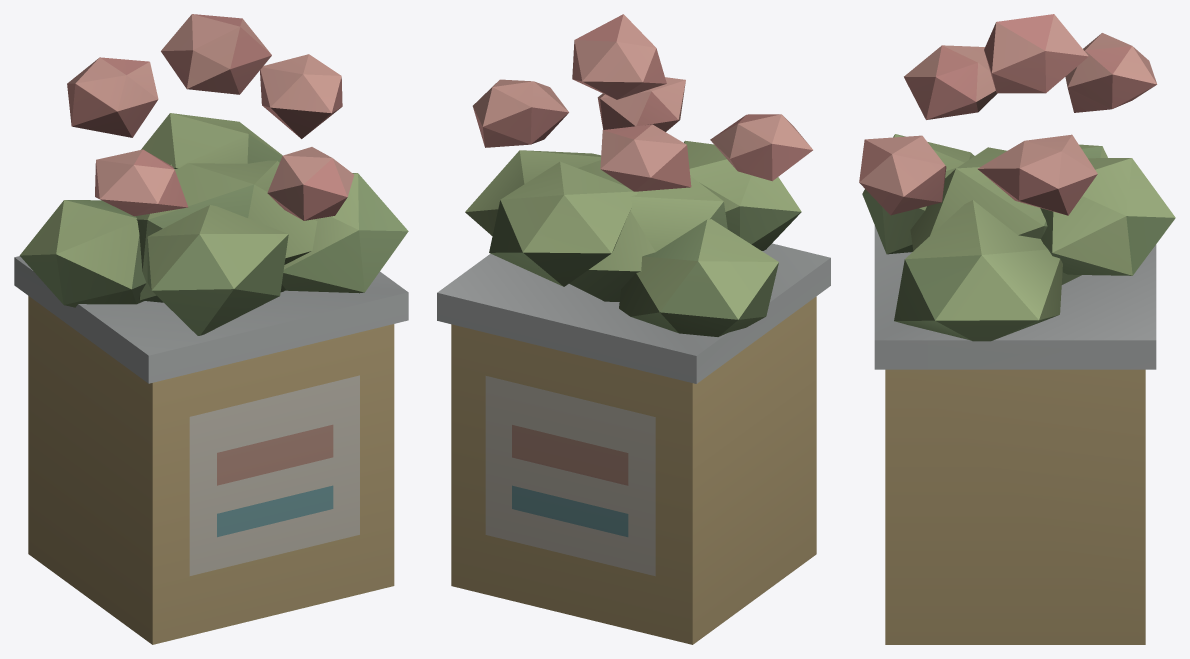
File: geranium.lod1.glb
3 renders of one model, left to right at view 1: azimuth 30°, elevation 25°; view 2: azimuth 150°, elevation 25°; view 3: azimuth 270°, elevation 25°, orthographic. The views are drawn at different scales.
Size of the model in its own units: 0.6903 by 1.16 by 0.5846.
